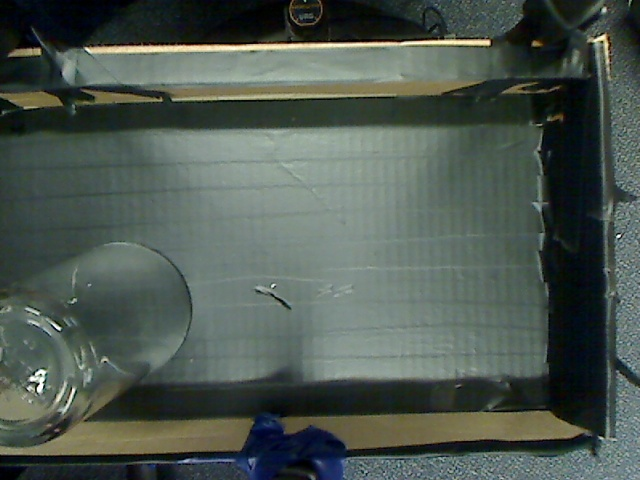cup: (1, 204, 230, 466)
